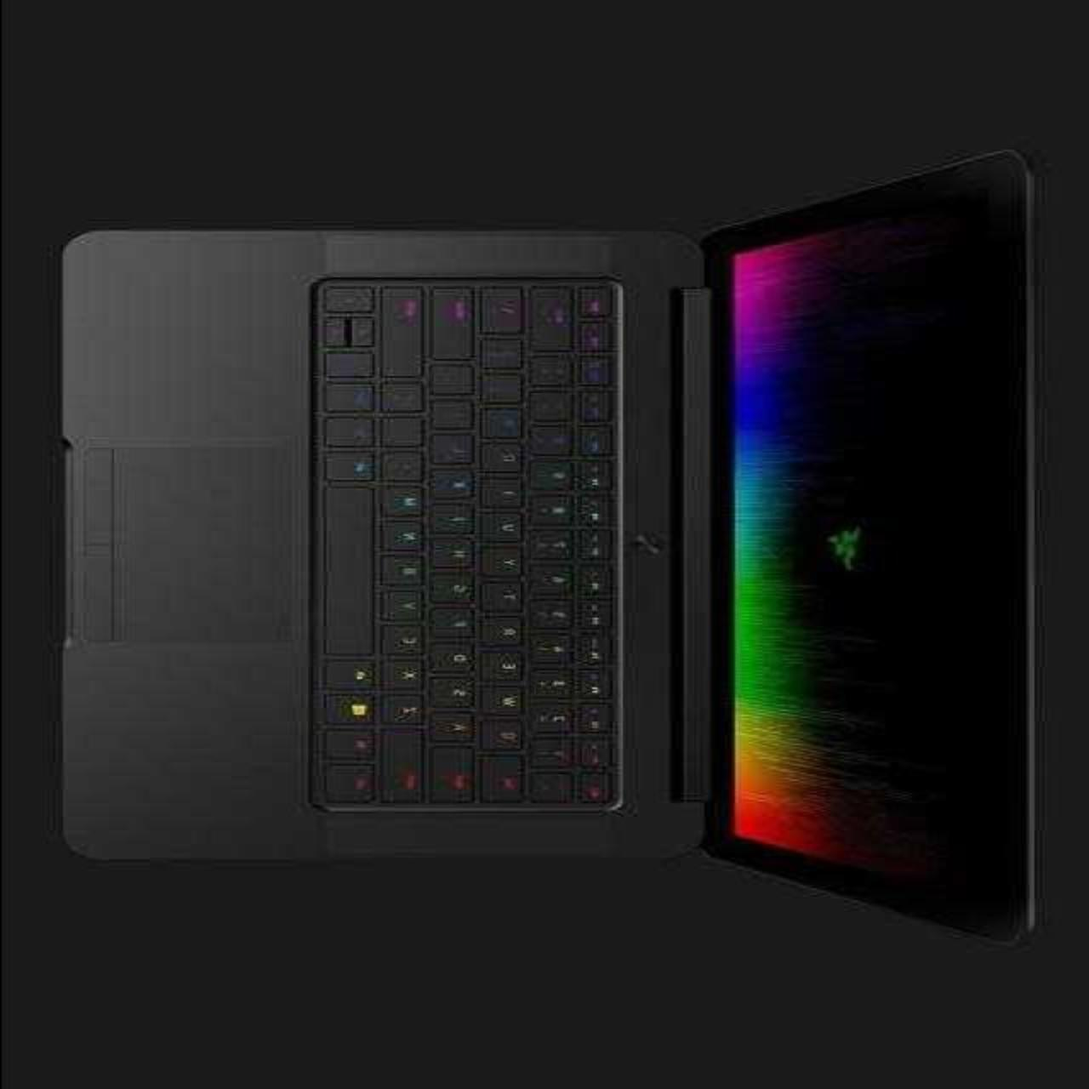laptop: (44, 209, 1035, 924)
